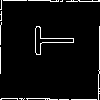T: (24, 24, 75, 57)
